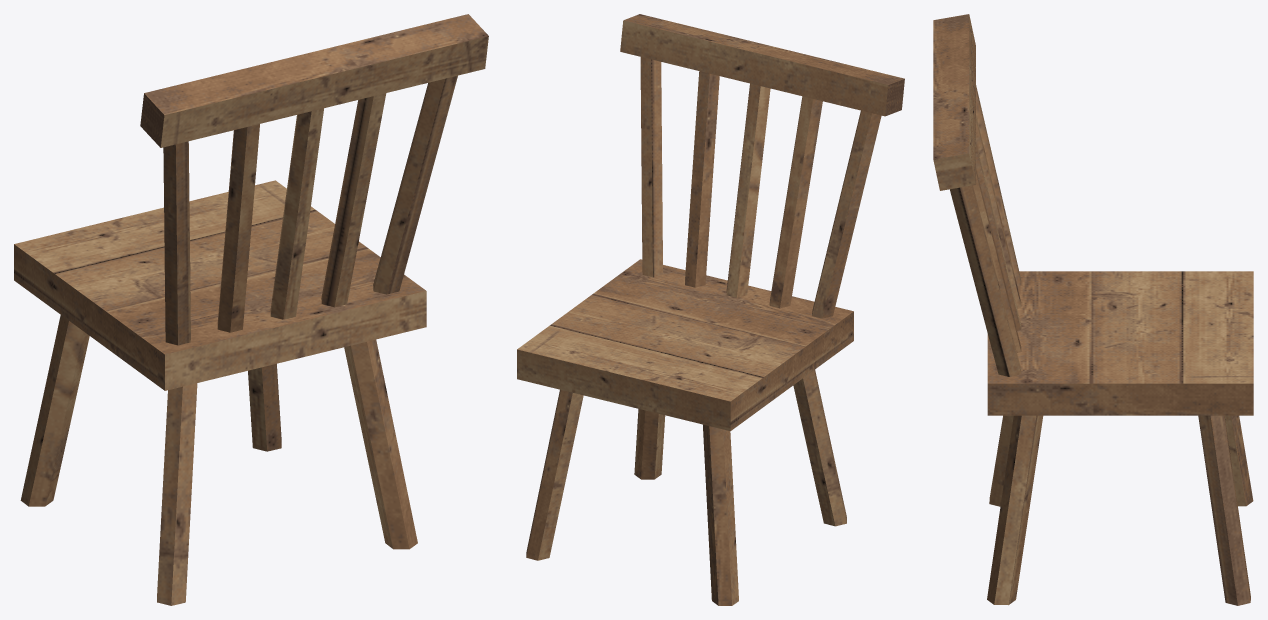
File: Chair.fbx
3 views of the same model, side by side, from view 1: azimuth 30°, elevation 25°; view 2: azimuth 150°, elevation 25°; view 3: azimuth 270°, elevation 25° (orthographic). The views are drawn at different scales.
Parts seen in each view (by area): view 1: Cylinder.005; view 2: Cylinder.005; view 3: Cylinder.005.
Boxes of the visible parts, x1,y1,x2,y2 form: Cylinder.005: (14,14,488,605); Cylinder.005: (517,14,904,605); Cylinder.005: (933,14,1253,605).
Bounding box in the file's own units: 208 × 325 × 202.
